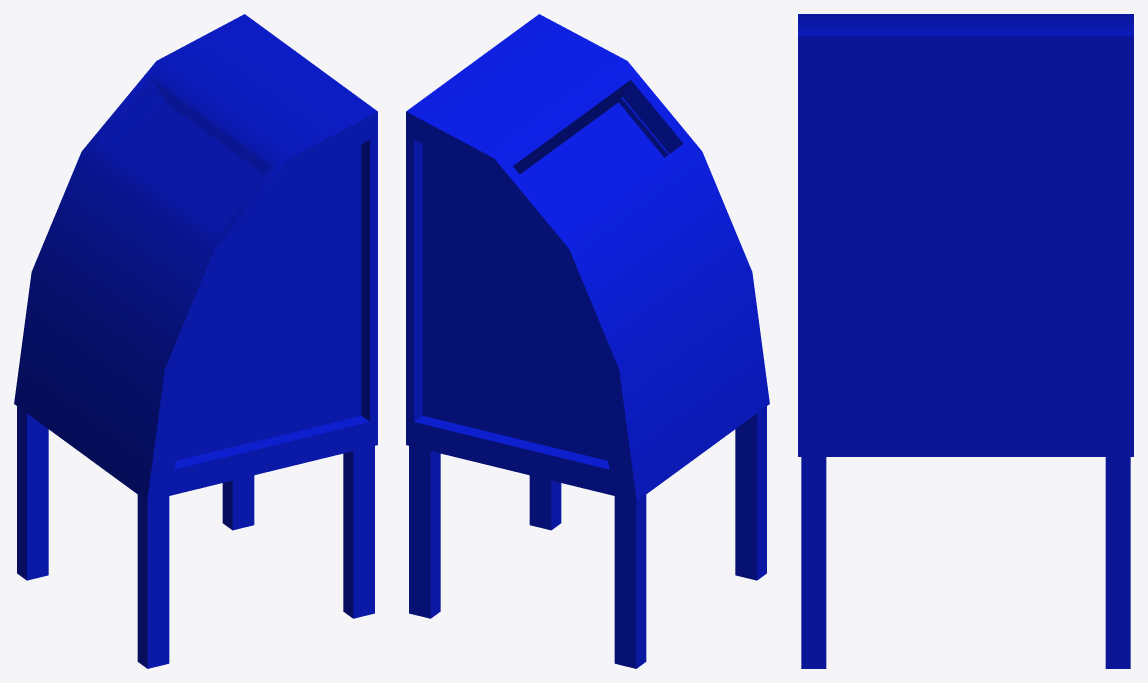
Rendered from mailbox1.fbx.
The picture shows the model from 3 angles, left to right: view 1: azimuth 30°, elevation 25°; view 2: azimuth 150°, elevation 25°; view 3: azimuth 270°, elevation 25°; orthographic projection. The views are drawn at different scales.
Visible parts, largest first — view 1: mailbox1; view 2: mailbox1; view 3: mailbox1.
Boxes of the visible parts, box(x1,y1,x2,y2) form: mailbox1: box(14, 14, 377, 668); mailbox1: box(406, 14, 769, 668); mailbox1: box(798, 14, 1133, 668).
Size of the model in its own units: 45.96 by 95.67 by 45.96.
